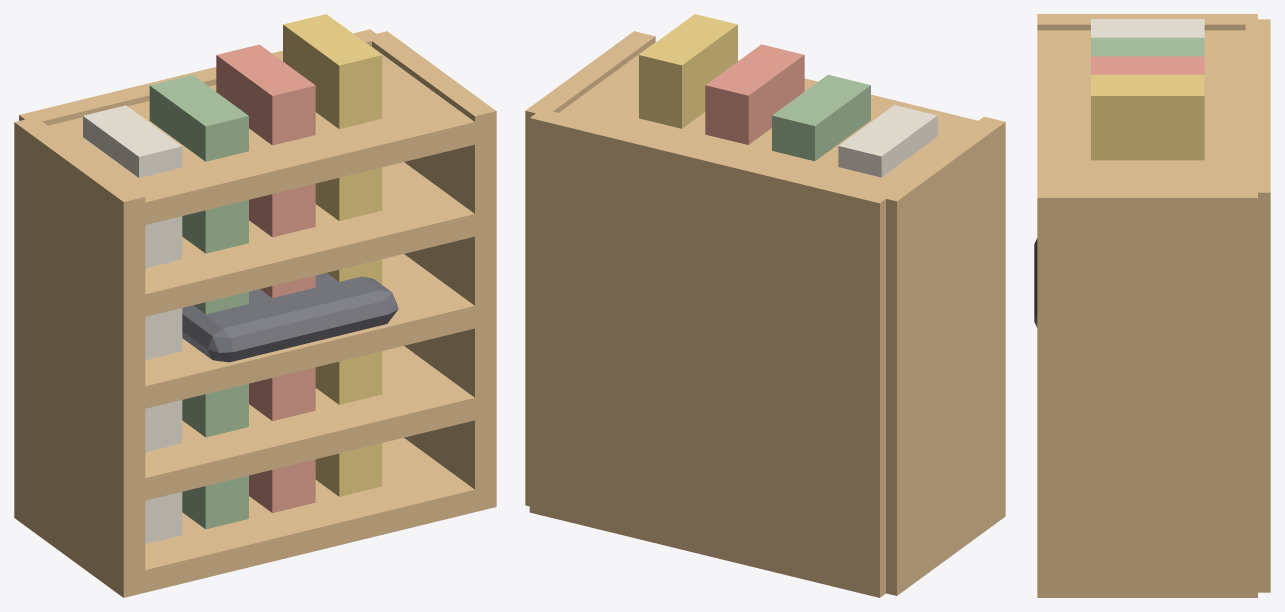
File: cozy-home-interiors-console-shelf-746f8a91.glb
3 views of the same model, side by side, from view 1: azimuth 30°, elevation 25°; view 2: azimuth 150°, elevation 25°; view 3: azimuth 270°, elevation 25° (orthographic).
Visible parts, largest first — view 1: console-shelf; view 2: console-shelf; view 3: console-shelf.
Part boxes in pixels (x1,y1,x2,y2): console-shelf: [14, 14, 496, 597]; console-shelf: [525, 14, 1005, 597]; console-shelf: [1034, 14, 1270, 597].
Size of the model in its own units: 0.69 by 0.8025 by 0.375.
